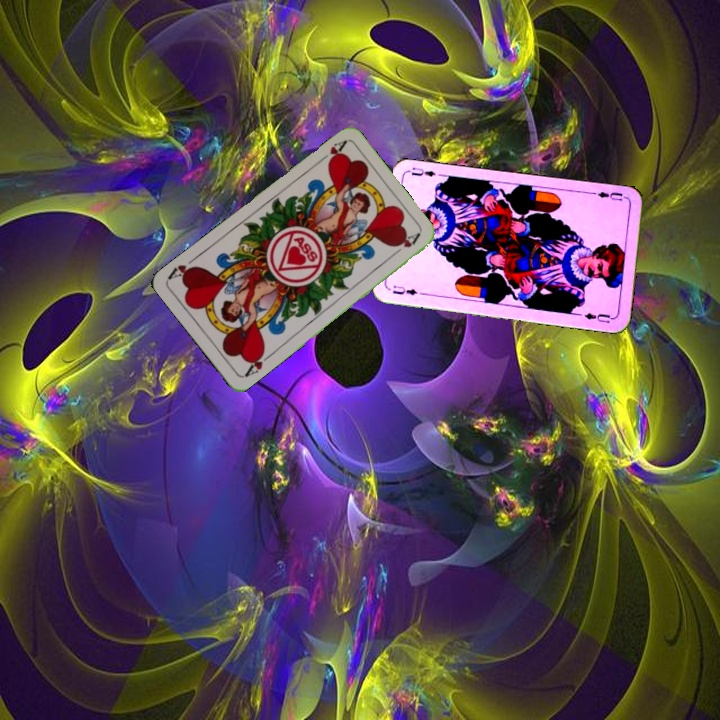EU: (593, 188, 629, 203), (389, 282, 420, 298)
HA: (240, 346, 275, 380), (313, 136, 349, 167)
